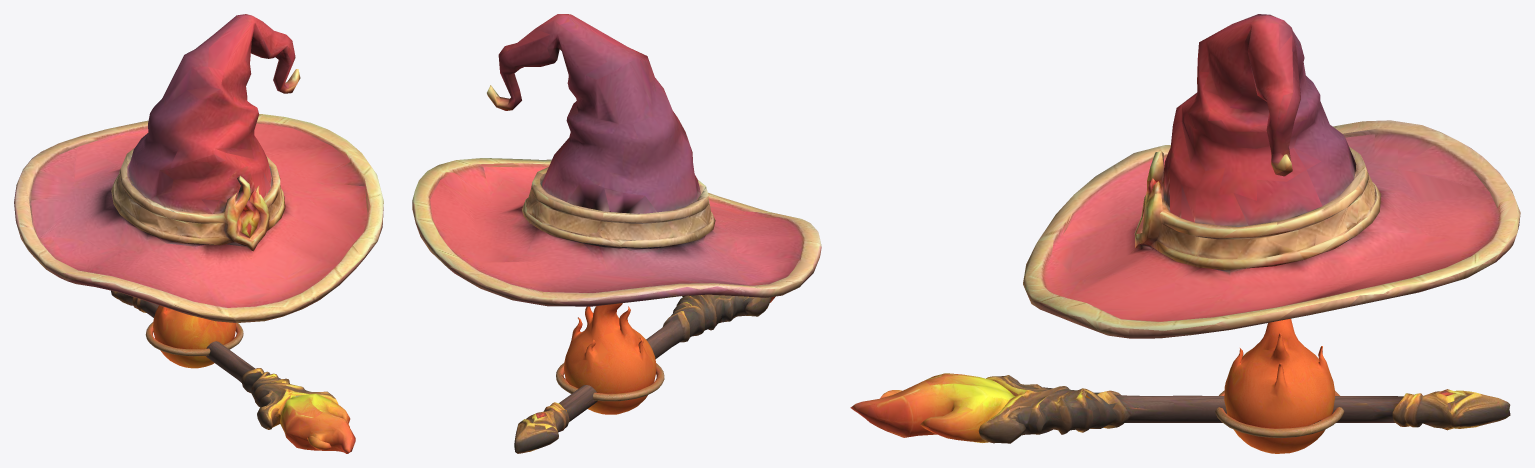
File: mage-gear.glb
3 renders of one model, left to right at view 1: azimuth 30°, elevation 25°; view 2: azimuth 150°, elevation 25°; view 3: azimuth 270°, elevation 25°, orthographic. The views are drawn at different scales.
Parts seen in each view (by area): view 1: MageHat, MageStaff, MageOrb; view 2: MageHat, MageOrb, MageStaff; view 3: MageHat, MageStaff, MageOrb.
Boxes of the visible parts, x1,y1,x2,y2 form: MageHat: (14, 14, 383, 322); MageStaff: (111, 290, 355, 453); MageOrb: (145, 305, 243, 368); MageHat: (412, 14, 821, 306); MageOrb: (556, 303, 664, 414); MageStaff: (514, 294, 775, 453); MageHat: (1023, 14, 1520, 338); MageStaff: (850, 373, 1510, 443); MageOrb: (1215, 318, 1344, 453).
Size of the model in its own units: 1.02 by 1.03 by 1.36.
Materials: 3 (3 with a texture image).
